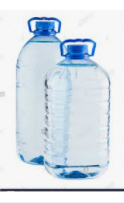Bottle: (46, 38, 110, 178), (18, 19, 67, 168)
